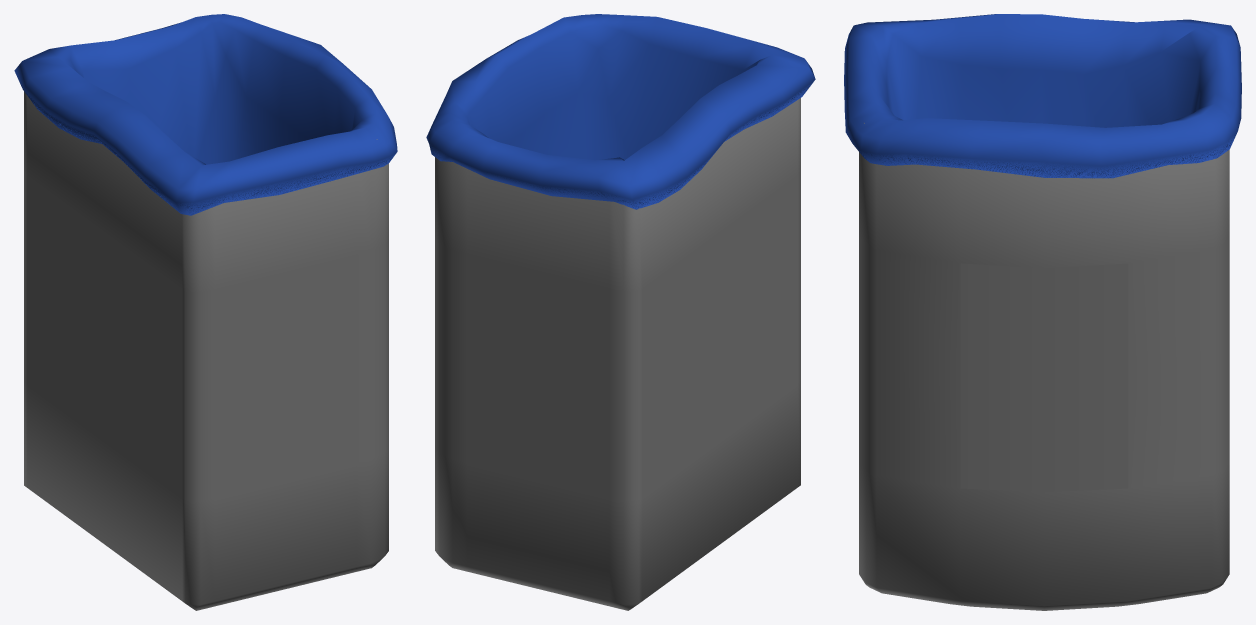
The model's file is poubelle_bleu.fbx.
The picture shows the model from 3 angles, left to right: view 1: azimuth 30°, elevation 25°; view 2: azimuth 150°, elevation 25°; view 3: azimuth 270°, elevation 25°; orthographic projection. The views are drawn at different scales.
Visible parts, largest first — view 1: poubelle, sac poubelle; view 2: poubelle, sac poubelle; view 3: poubelle, sac poubelle.
Part boxes in pixels (x1,y1,x2,y2): poubelle: (24,91,388,610); sac poubelle: (14,14,397,215); poubelle: (435,98,800,610); sac poubelle: (426,14,815,209); poubelle: (859,123,1229,610); sac poubelle: (844,14,1241,178).
Size of the model in its own units: 63.45 by 105 by 77.58.
